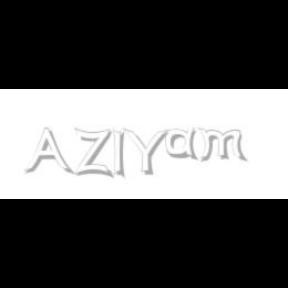A: (24, 128, 72, 176)
Y: (122, 128, 168, 176)
Z: (74, 128, 112, 178)
a: (165, 128, 202, 160)
l: (113, 128, 129, 180)
m: (197, 128, 249, 162)
